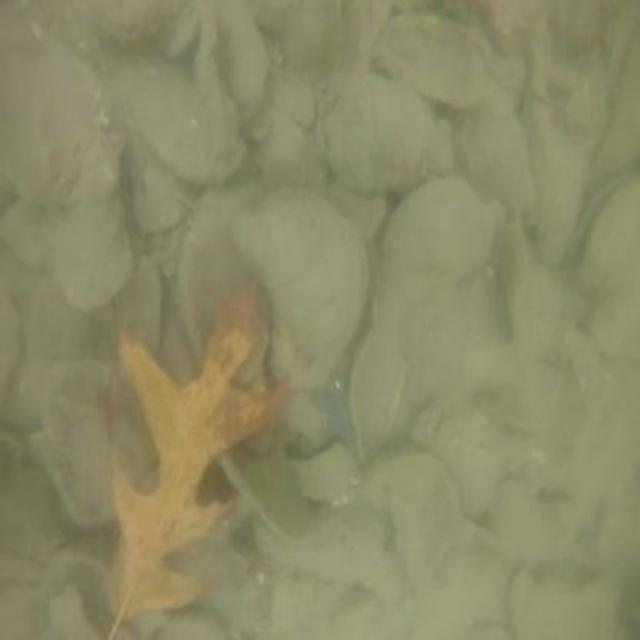Oyster-Closed: (232, 201, 362, 351), (325, 75, 452, 200), (185, 192, 266, 383), (127, 63, 242, 184), (383, 178, 493, 280), (256, 501, 388, 585), (377, 14, 493, 104), (458, 76, 534, 211), (43, 195, 130, 310), (521, 90, 577, 261), (409, 548, 510, 637), (491, 481, 578, 562), (592, 287, 638, 360)
Oyster-Open: (566, 167, 638, 283), (197, 0, 263, 100)
